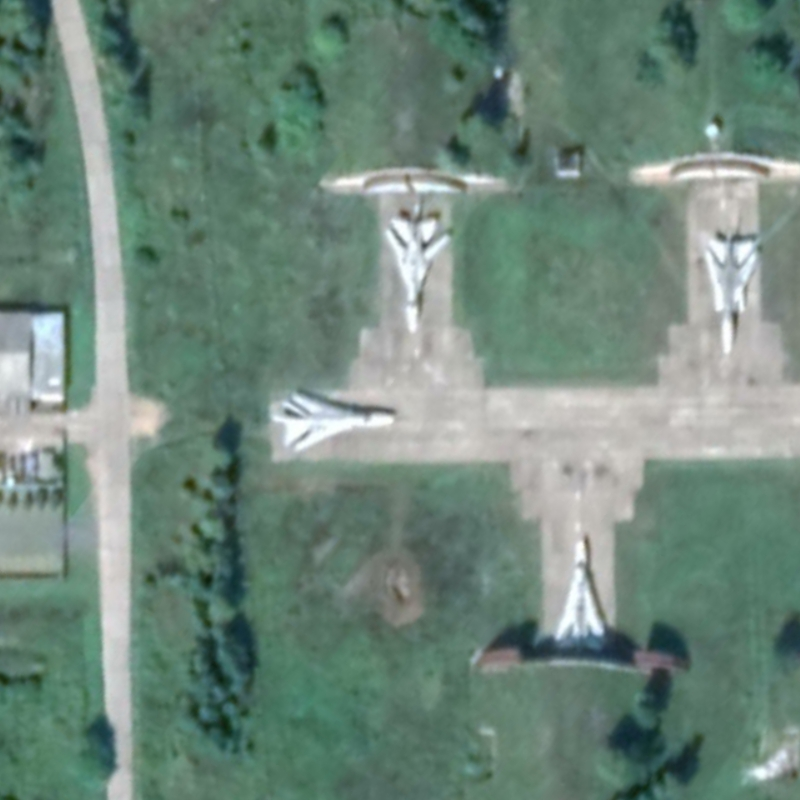A20: (382, 215, 454, 336), (280, 387, 397, 454), (701, 234, 761, 356), (551, 535, 609, 656)
